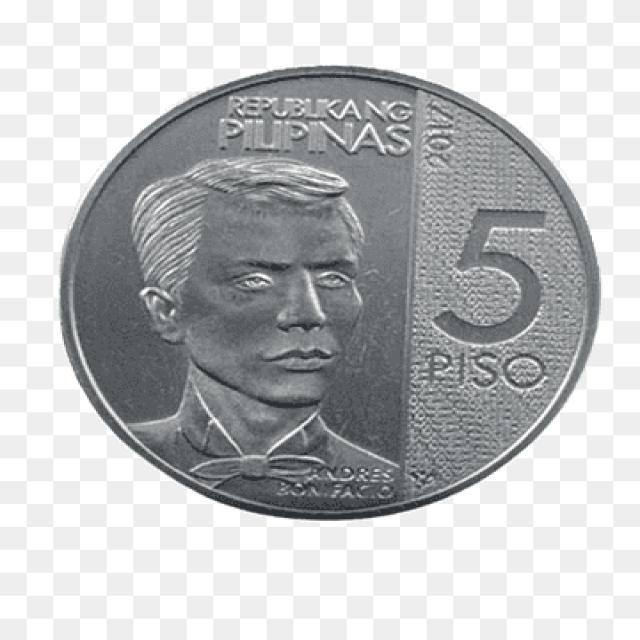5 peso: (56, 56, 608, 528)
